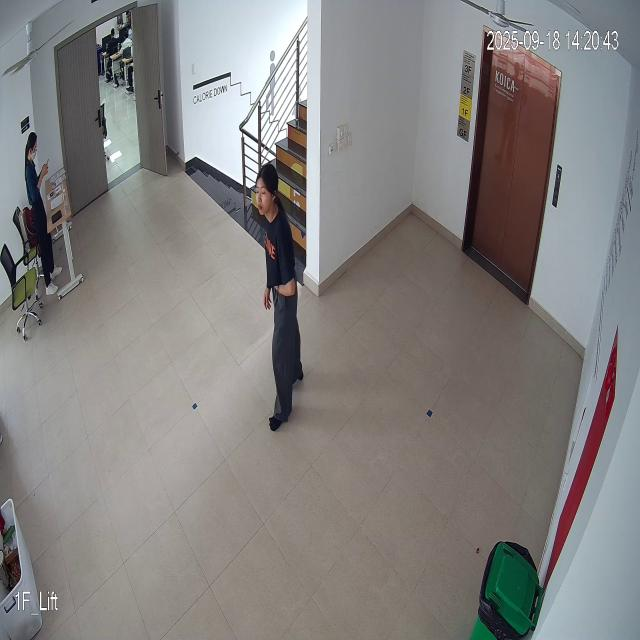face: (255, 165, 280, 218)
